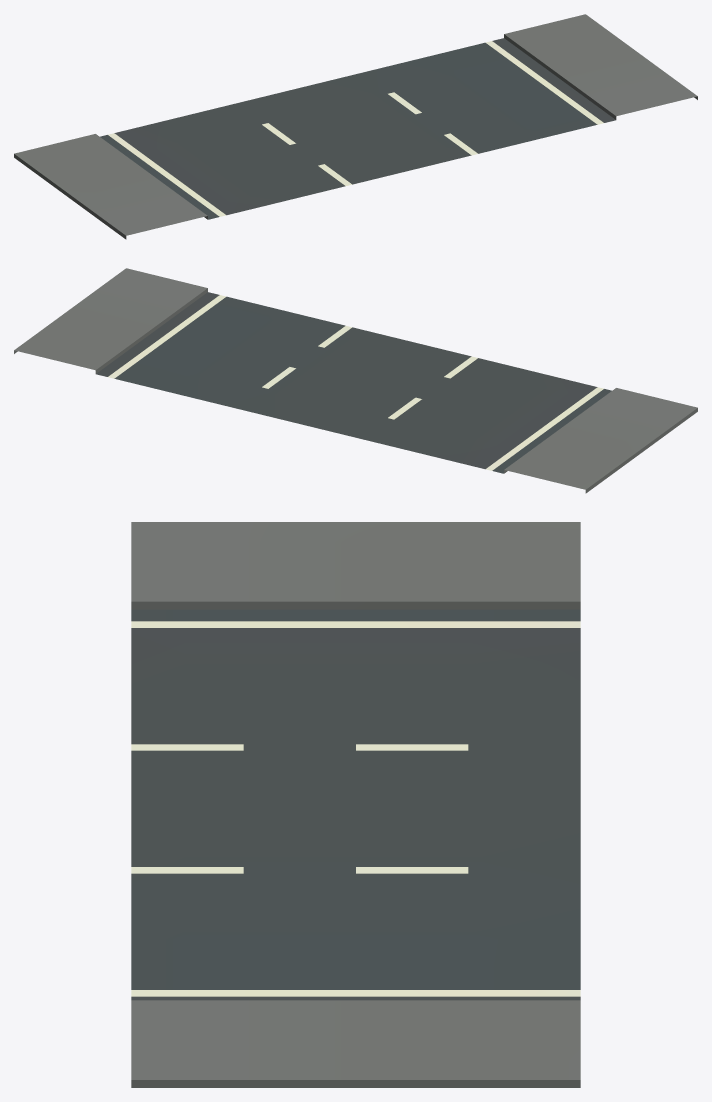
Rendered from city_road_3.glb.
3 renders of one model, top to bottom at view 1: azimuth 30°, elevation 25°; view 2: azimuth 150°, elevation 25°; view 3: azimuth 270°, elevation 25°, orthographic. The views are drawn at different scales.
Visible parts, largest first — view 1: Road_1; view 2: Road_1; view 3: Road_1.
Part boxes in pixels (left/top/right/bottom): Road_1: left=14, top=14, right=697, bottom=239; Road_1: left=14, top=268, right=697, bottom=493; Road_1: left=131, top=522, right=580, bottom=1087.
Bounding box in the file's own units: 6 × 0.0396 × 2.04.
Materials: 1 (1 with a texture image).
